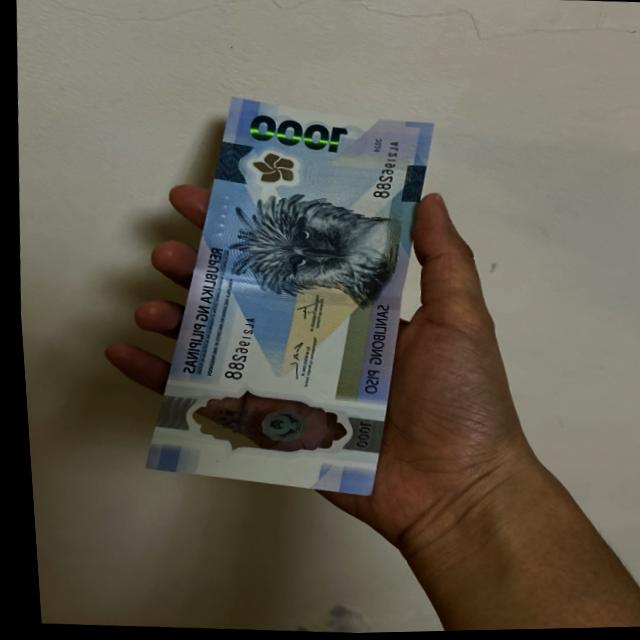clear_window: (162, 390, 362, 462)
eagle: (230, 191, 411, 310)
sampaguita: (237, 151, 301, 188)
serial_number: (206, 310, 262, 393), (363, 134, 412, 215)
